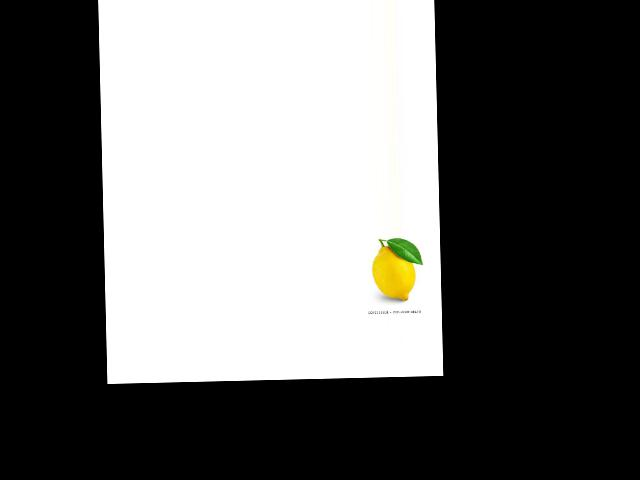lemon: (370, 242, 421, 301)
